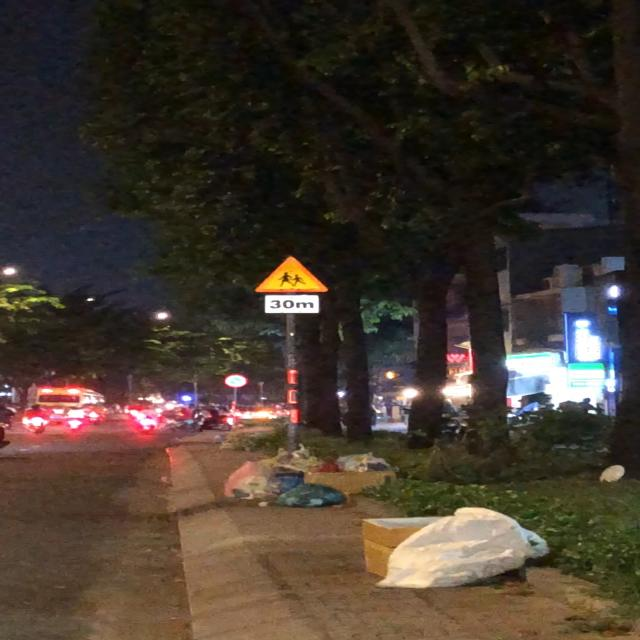Bien bao tre em: (253, 252, 329, 295)
